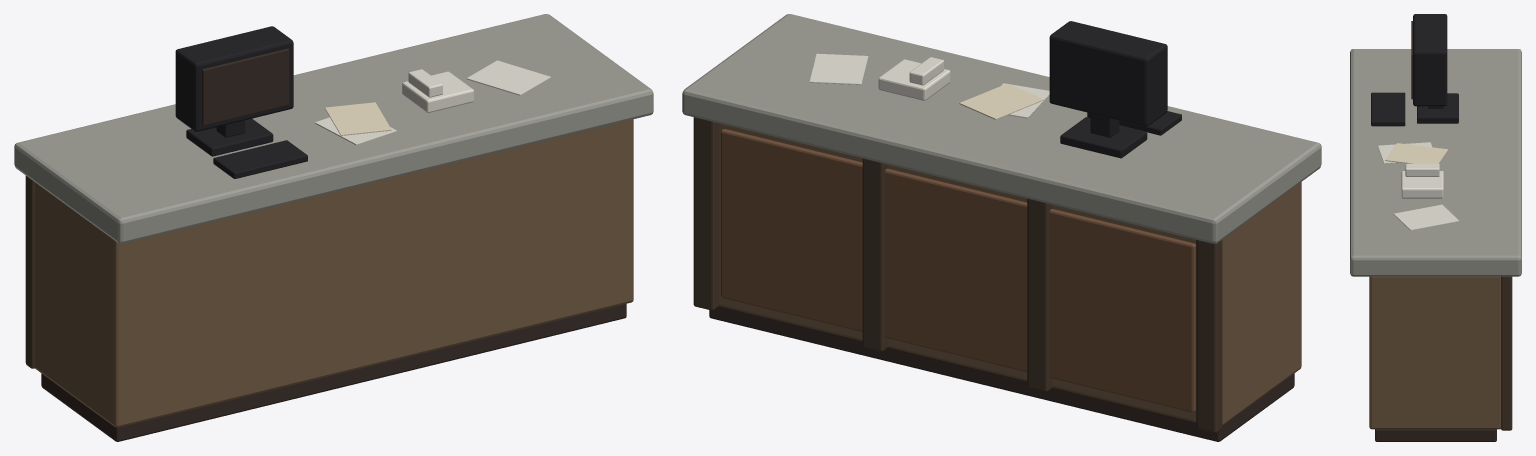
Rendered from lobby_desk.glb.
The picture shows the model from 3 angles, left to right: view 1: azimuth 30°, elevation 25°; view 2: azimuth 150°, elevation 25°; view 3: azimuth 270°, elevation 25°; orthographic projection. The views are drawn at different scales.
Visible parts, largest first — view 1: lobby_desk; view 2: lobby_desk; view 3: lobby_desk.
Part boxes in pixels (box(x1,y1,x2,y2)): lobby_desk: box(14, 14, 653, 441); lobby_desk: box(682, 14, 1321, 441); lobby_desk: box(1350, 14, 1521, 441).
Size of what is drawn, in the model's own units: 2.6 by 1.56 by 0.9.
Materials: 2 (2 with a texture image).
